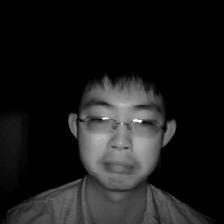sad: (44, 55, 189, 197)
